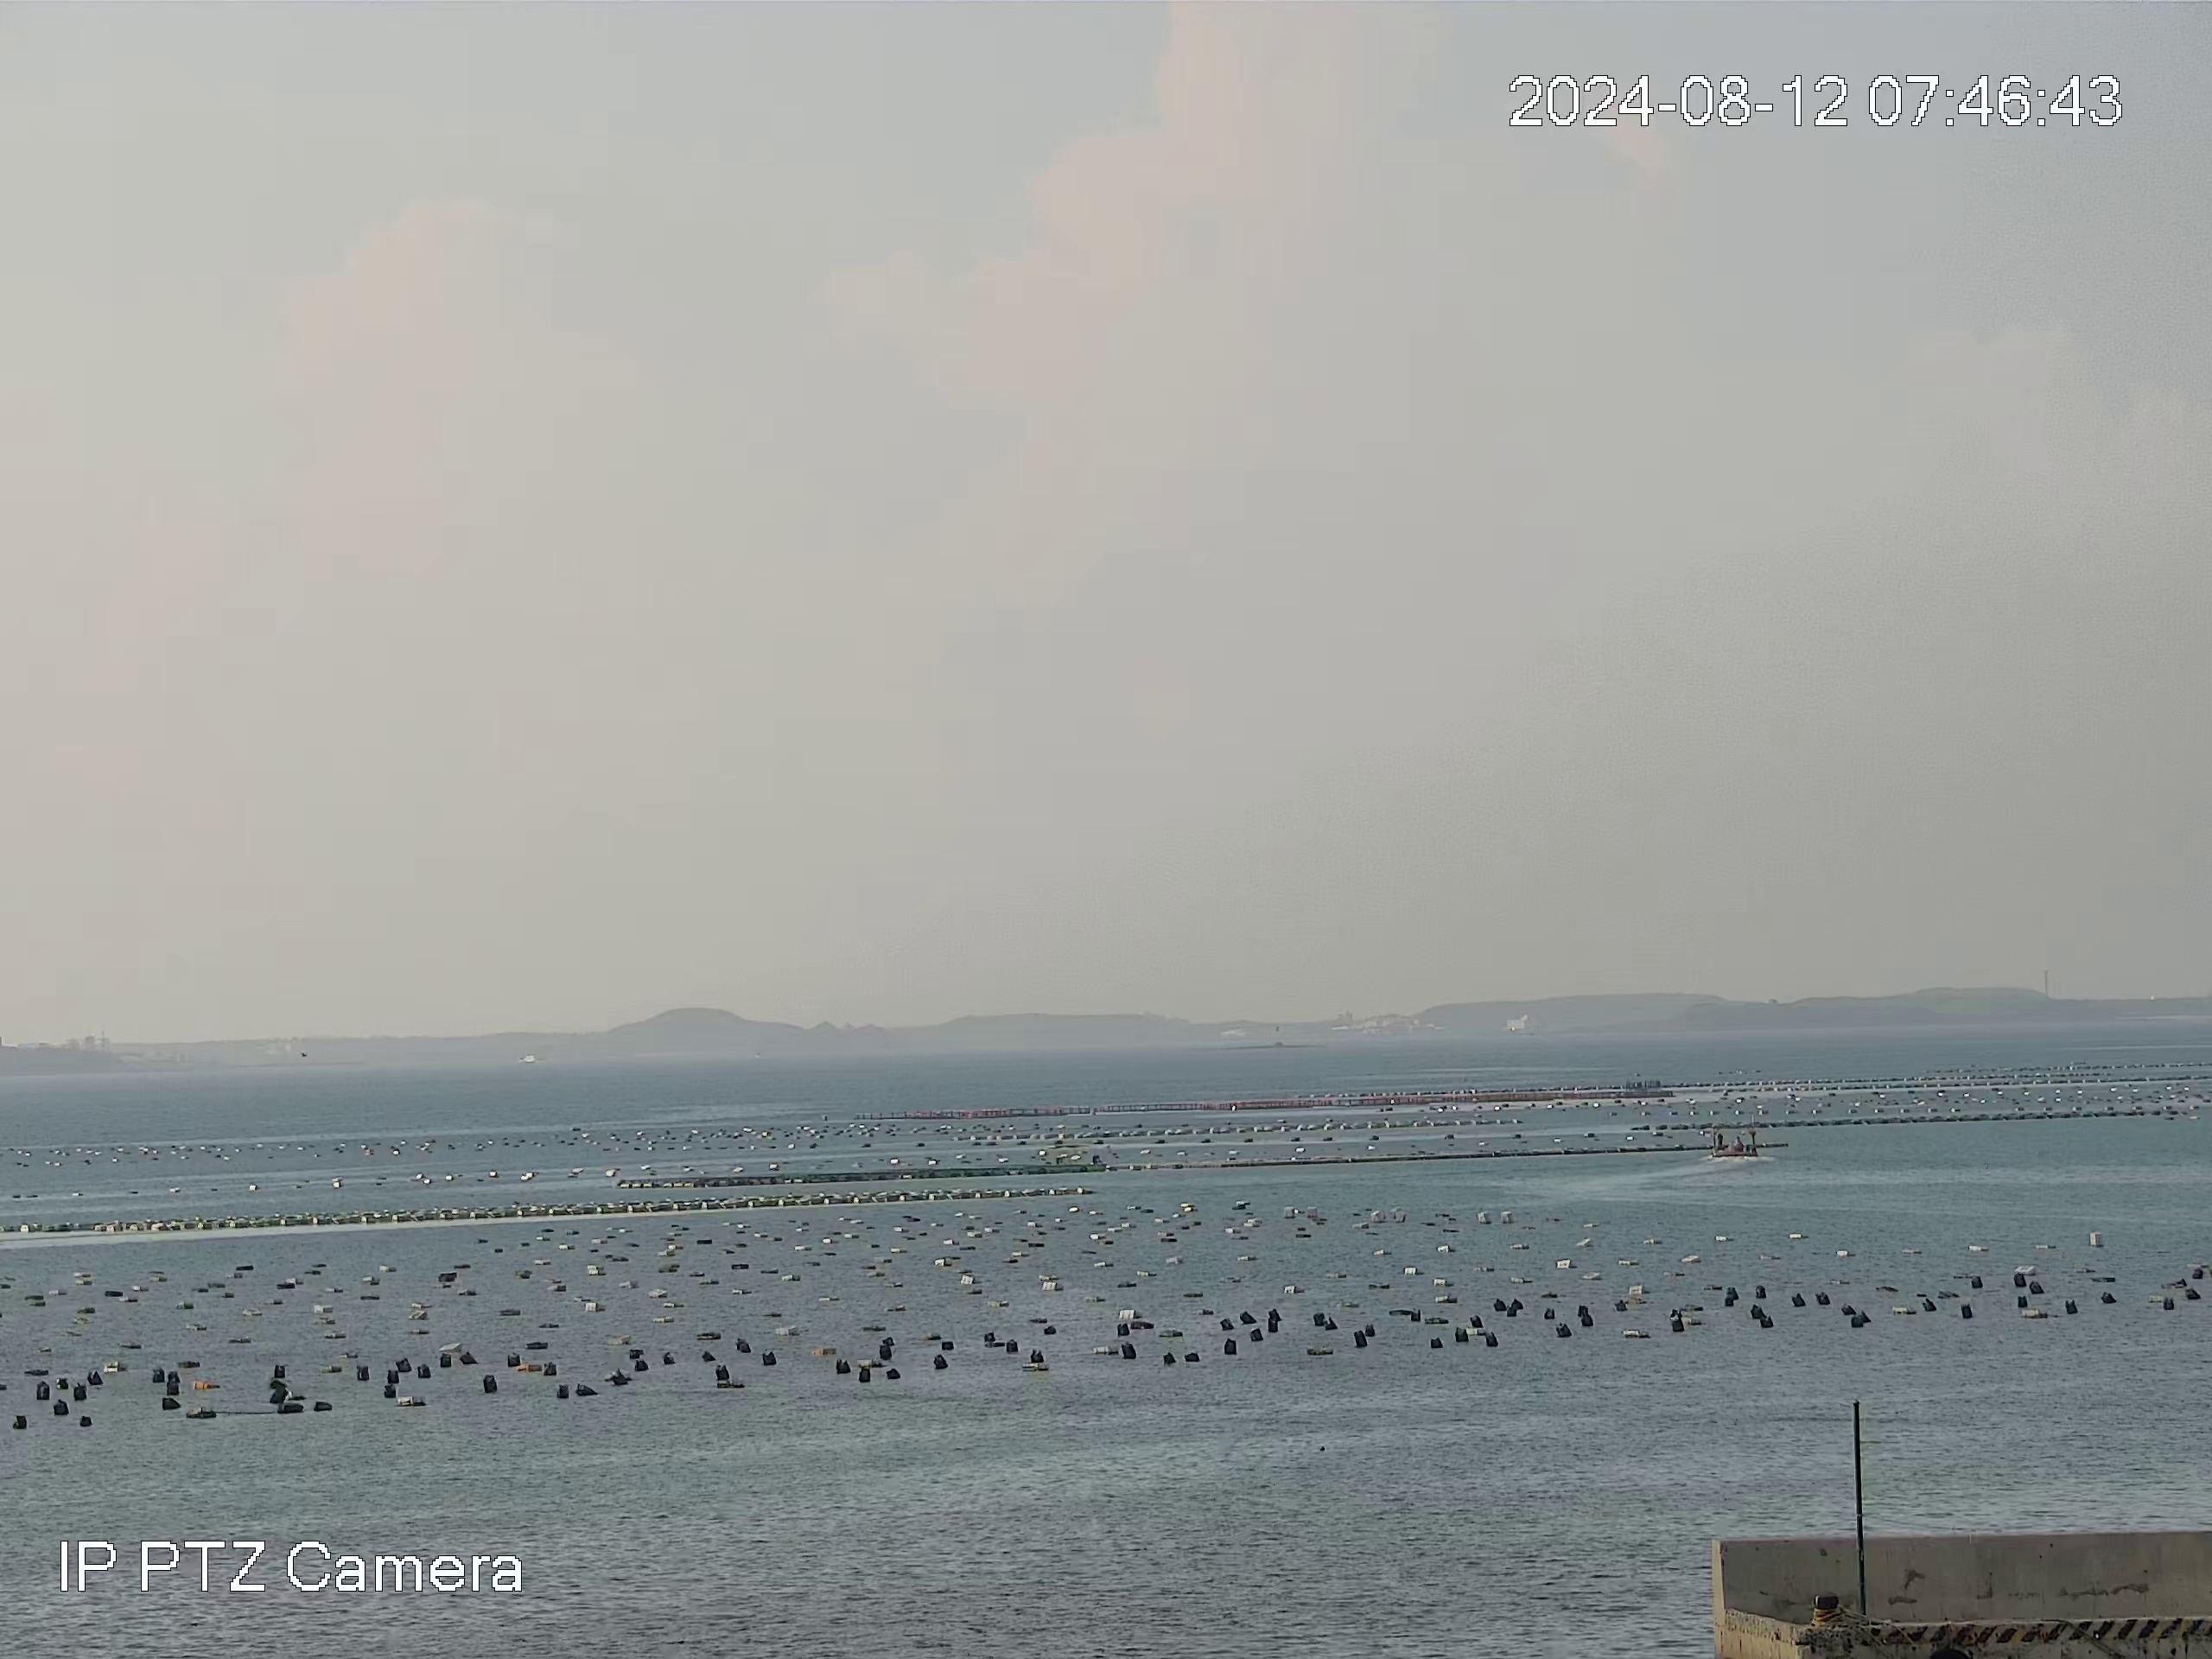boat: (1709, 1123, 1761, 1159)
